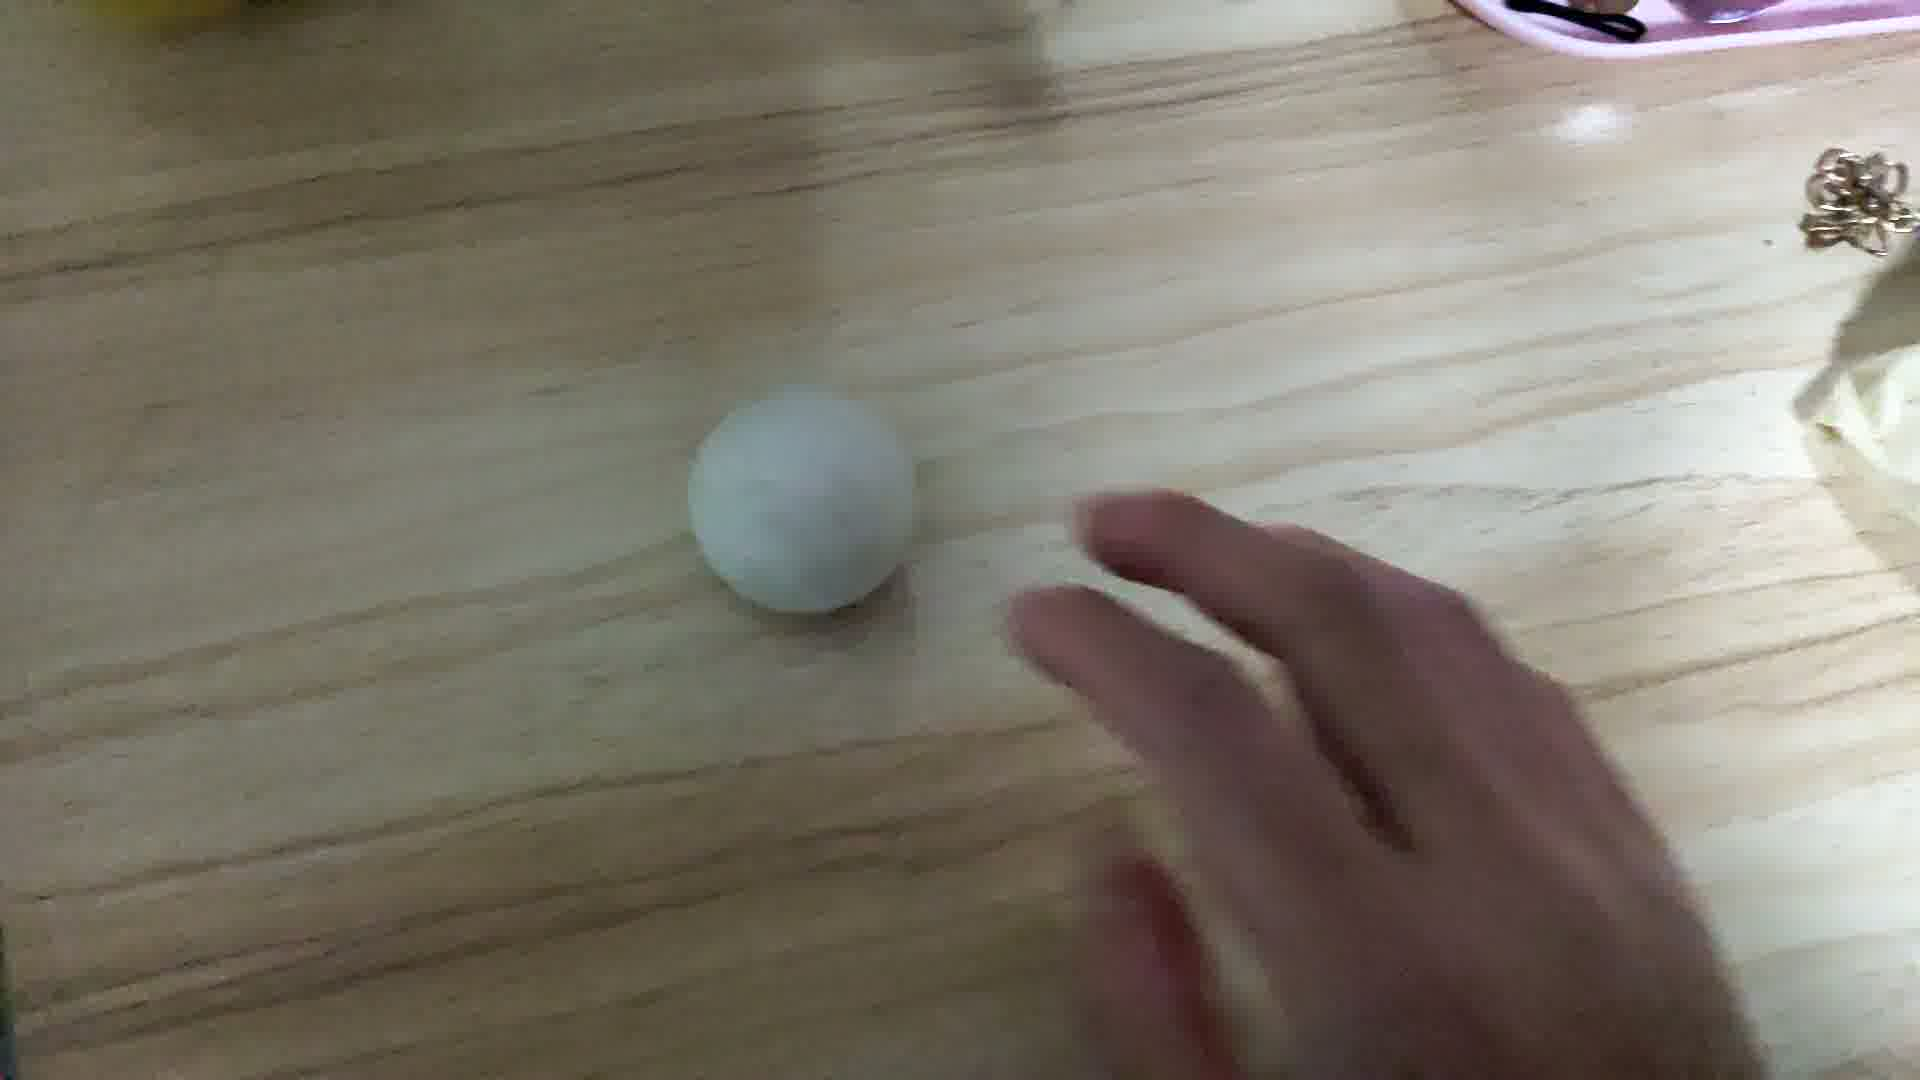Ball: (688, 385, 938, 613)
